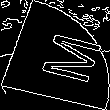M_W: (17, 26, 93, 84)
